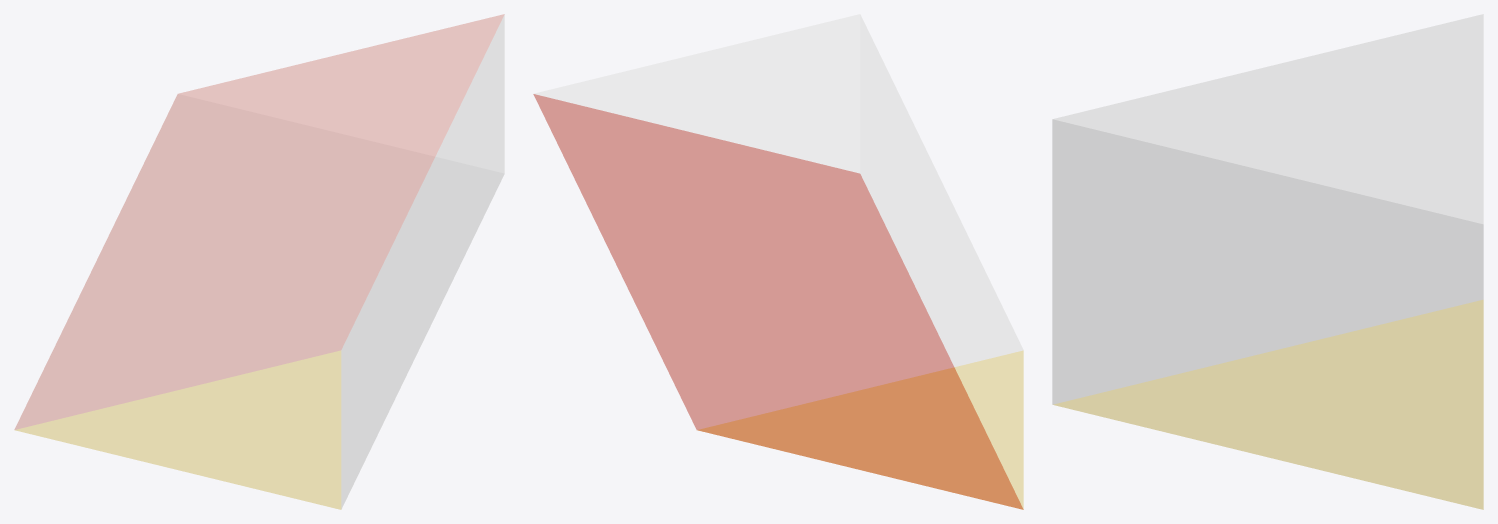
The model's file is Bài 7.35.glb.
3 renders of one model, left to right at view 1: azimuth 30°, elevation 25°; view 2: azimuth 150°, elevation 25°; view 3: azimuth 270°, elevation 25°, orthographic. The views are drawn at different scales.
Size of the model in its own units: 6 by 3.46 by 3.46.
